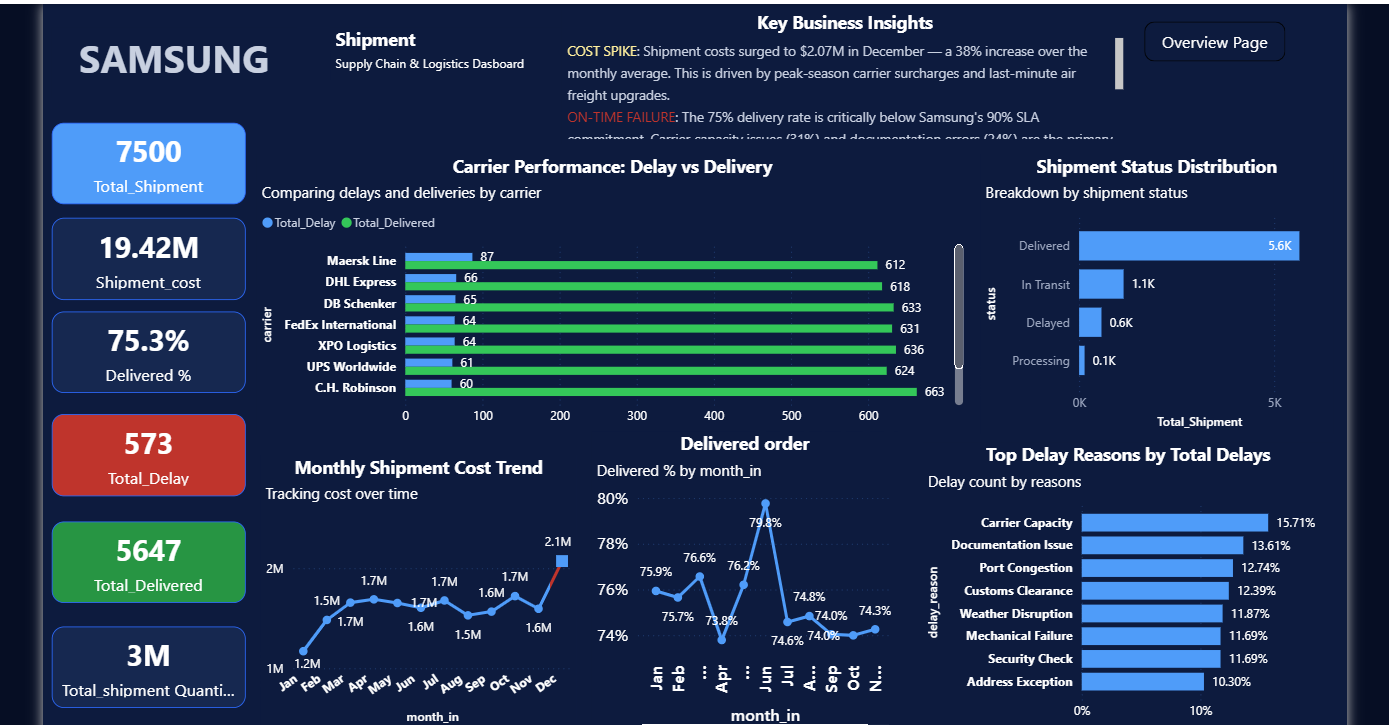

Layout of this report page (visuals, bound fields, positions):
{"tool":"powerbi","page":{"name":"Shippment","canvas":[1280,720],"ordinal":4},"visuals":[{"type":"textbox","title":"Shipment","box":[282.2,23.3,256.4,51.5],"z":0},{"type":"image","box":[8.2,16.5,225,56.3],"z":1000},{"type":"card","fields":{"Values":["MeasuresTable.Shipment_cost"]},"box":[8.6,210.3,190.8,80.7],"z":2000},{"type":"card","fields":{"Values":["MeasuresTable.Total_Delay"]},"box":[8.4,403,190.6,80.8],"z":3000},{"type":"card","fields":{"Values":["MeasuresTable.Total_shipment Quantity"]},"box":[8.4,610.5,190.6,79.6],"z":4000},{"type":"card","fields":{"Values":["MeasuresTable.Total_Shipment"]},"box":[8.6,116.2,190.8,80],"z":5000},{"type":"card","fields":{"Values":["MeasuresTable.Total_Delivered"]},"box":[8.4,507.9,190.6,79.6],"z":6000},{"type":"card","fields":{"Values":["MeasuresTable.Delivered %"]},"box":[8.4,301.6,190.6,79.6],"z":7000},{"type":"clusteredColumnChart","title":"Carrier Performance: Delay vs Delivery","fields":{"Y":["MeasuresTable.Total_Delay","MeasuresTable.Total_Delivered"],"Category":["fact_shipment.carrier"]},"box":[209.9,147.2,698.5,275.1],"z":8000},{"type":"lineChart","title":"Monthly Shipment Cost Trend","fields":{"Category":["dim_date.Month_Short"],"Y":["MeasuresTable.Shipment_cost"]},"box":[213.5,430.7,633.4,281.1],"z":9000},{"type":"clusteredBarChart","title":"Top Delay Reasons by Total Delays ","fields":{"Category":["fact_shipment.delay_reason"],"Y":["MeasuresTable.Total_Delay"]},"box":[863.8,430.7,403,281.1],"z":10000},{"type":"donutChart","title":"Shipment Status Distribution","fields":{"Category":["fact_shipment.status"],"Y":["MeasuresTable.Total_Shipment"]},"box":[920.3,147.2,346,274.8],"z":11000},{"type":"actionButton","box":[1081,17.2,138.7,39.3],"z":12000},{"type":"textbox","title":"Key Business Insights","box":[582.7,9.7,498.3,131.5],"z":13000}]}

Visuals, with their boxes on the page's 1280x720 design canvas (x1, y1, x2, y2). These are canvas units, not pixel positions in the 1389x725 screenshot, which may show the page scaled, cropped or inside an application window:
"Shipment" textbox: bbox(282, 23, 539, 75)
image: bbox(8, 16, 233, 73)
card - MeasuresTable.Shipment_cost: bbox(9, 210, 199, 291)
card - MeasuresTable.Total_Delay: bbox(8, 403, 199, 484)
card - MeasuresTable.Total_shipment Quantity: bbox(8, 610, 199, 690)
card - MeasuresTable.Total_Shipment: bbox(9, 116, 199, 196)
card - MeasuresTable.Total_Delivered: bbox(8, 508, 199, 588)
card - MeasuresTable.Delivered %: bbox(8, 302, 199, 381)
"Carrier Performance: Delay vs Delivery" clusteredColumnChart: bbox(210, 147, 908, 422)
"Monthly Shipment Cost Trend" lineChart: bbox(214, 431, 847, 712)
"Top Delay Reasons by Total Delays " clusteredBarChart: bbox(864, 431, 1267, 712)
"Shipment Status Distribution" donutChart: bbox(920, 147, 1266, 422)
actionButton: bbox(1081, 17, 1220, 56)
"Key Business Insights" textbox: bbox(583, 10, 1081, 141)
